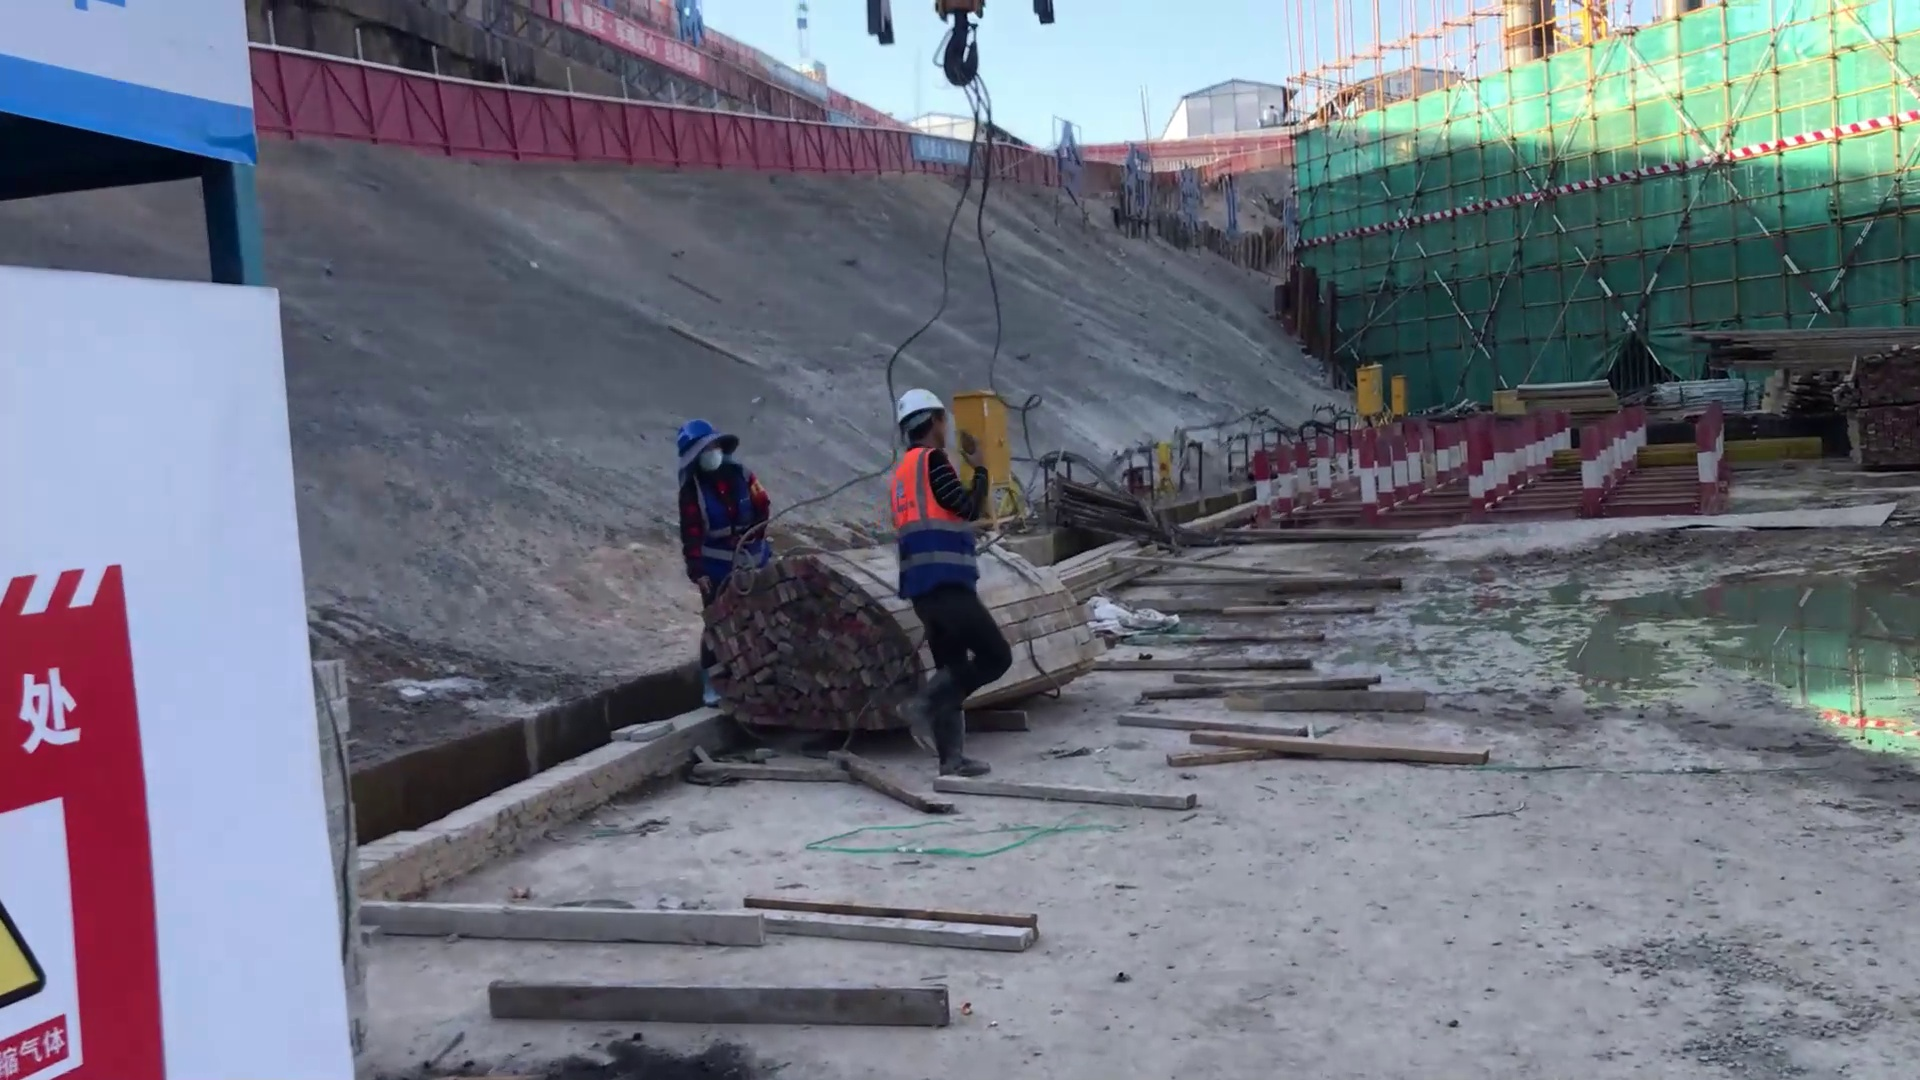ebox: (1349, 362, 1386, 419), (1389, 367, 1411, 420)
fence: (244, 50, 640, 170), (641, 104, 922, 171)
helmet: (874, 380, 933, 436), (672, 422, 728, 479)
person: (886, 387, 1012, 783), (661, 420, 774, 587)
wood: (1096, 502, 1440, 808), (712, 564, 912, 749), (1666, 305, 1920, 367)
